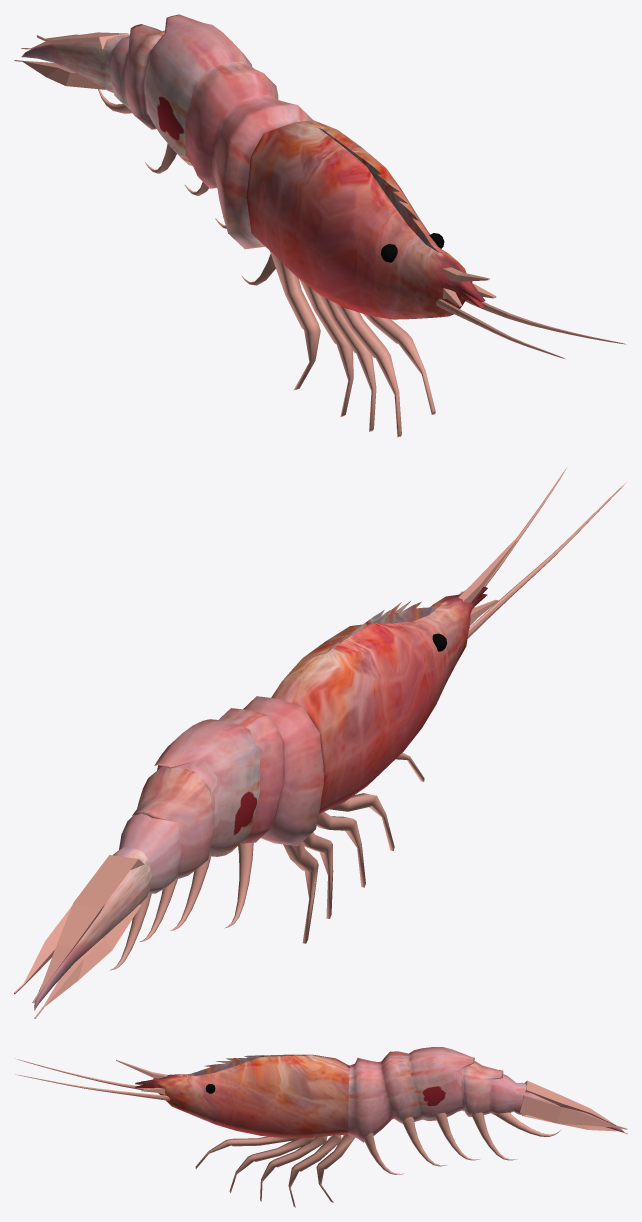
Rendered from Mino Nylon Shrimp.glb.
The picture shows the model from 3 angles, top to bottom: view 1: azimuth 30°, elevation 25°; view 2: azimuth 150°, elevation 25°; view 3: azimuth 270°, elevation 25°; orthographic projection. The views are drawn at different scales.
Visible parts, largest first — view 1: Cube.003; view 2: Cube.003; view 3: Cube.003.
Boxes of the visible parts, x1,y1,x2,y2 form: Cube.003: (14, 14, 626, 437); Cube.003: (14, 468, 626, 1018); Cube.003: (15, 1047, 627, 1207).
Size of the model in its own units: 0.331 by 0.9667 by 3.48.
Materials: 2 (2 with a texture image).
